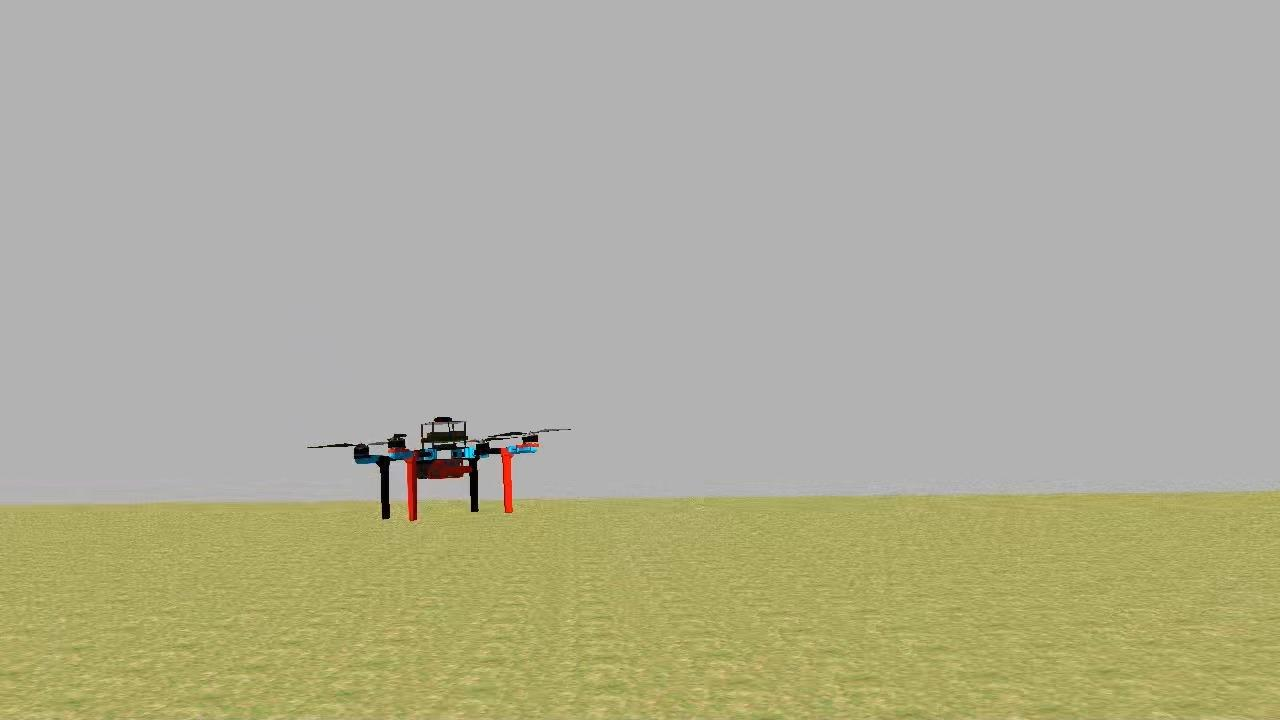UAV: (344, 409, 549, 527)
